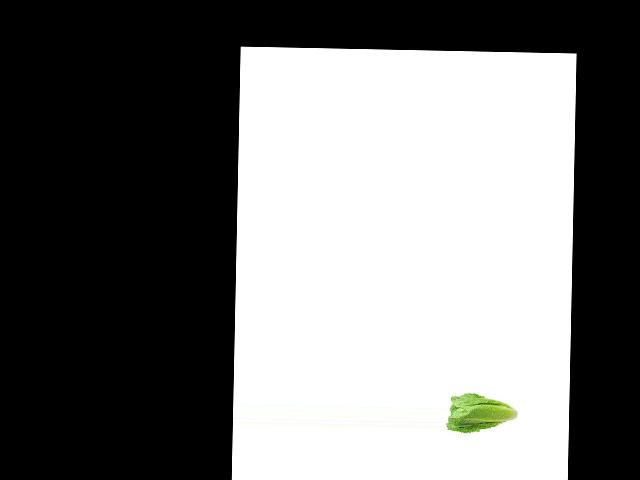lettuce: (445, 390, 519, 437)
